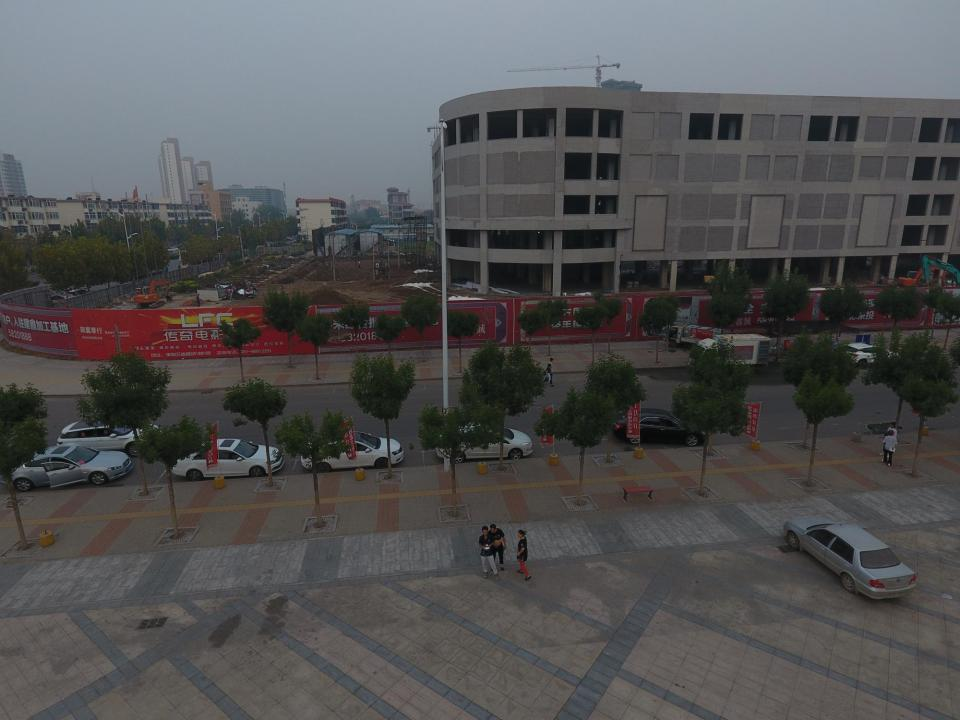car: (783, 516, 917, 600), (0, 444, 132, 491), (170, 438, 285, 481), (56, 419, 163, 460), (301, 431, 403, 474), (435, 422, 533, 464), (612, 408, 708, 448), (839, 342, 903, 369), (166, 246, 179, 252)
truck: (687, 333, 770, 375), (662, 324, 726, 350)
